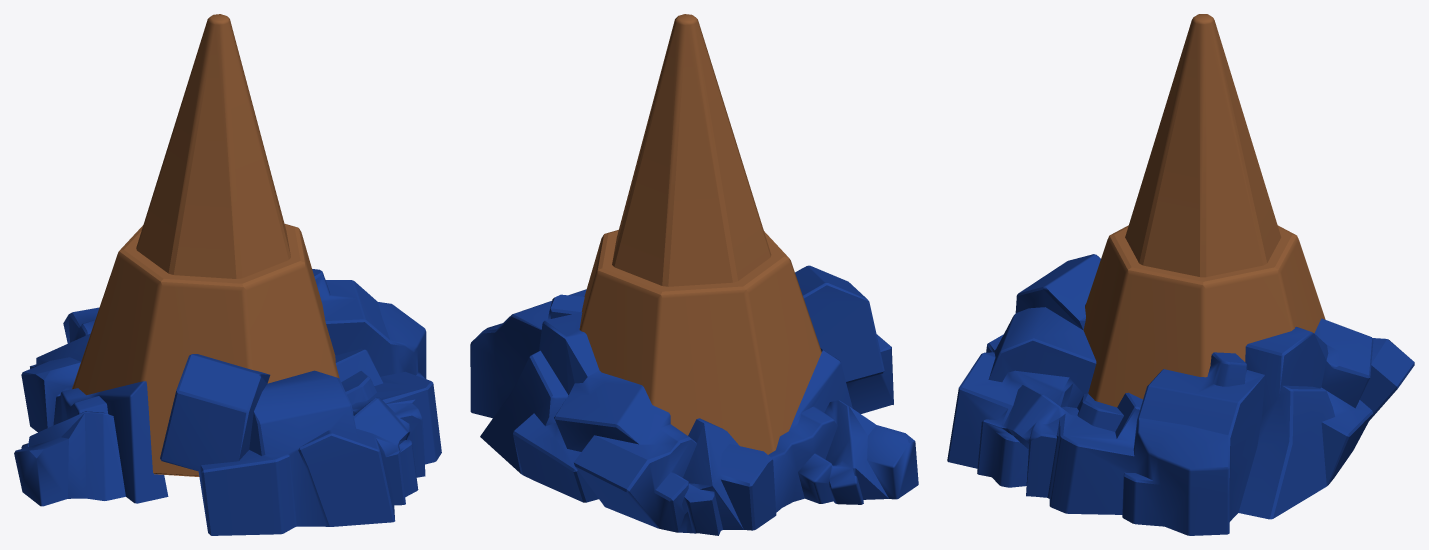
The model's file is SM_Icecream.fbx.
3 views of the same model, side by side, from view 1: azimuth 30°, elevation 25°; view 2: azimuth 150°, elevation 25°; view 3: azimuth 270°, elevation 25° (orthographic). The views are drawn at different scales.
Parts seen in each view (by area): view 1: SM_icecream; view 2: SM_icecream; view 3: SM_icecream.
Boxes of the visible parts, <box> form: SM_icecream: <box>14,14,441,535</box>; SM_icecream: <box>470,14,918,535</box>; SM_icecream: <box>947,14,1414,535</box>.
Size of the model in its own units: 12.53 by 12.52 by 12.57.
